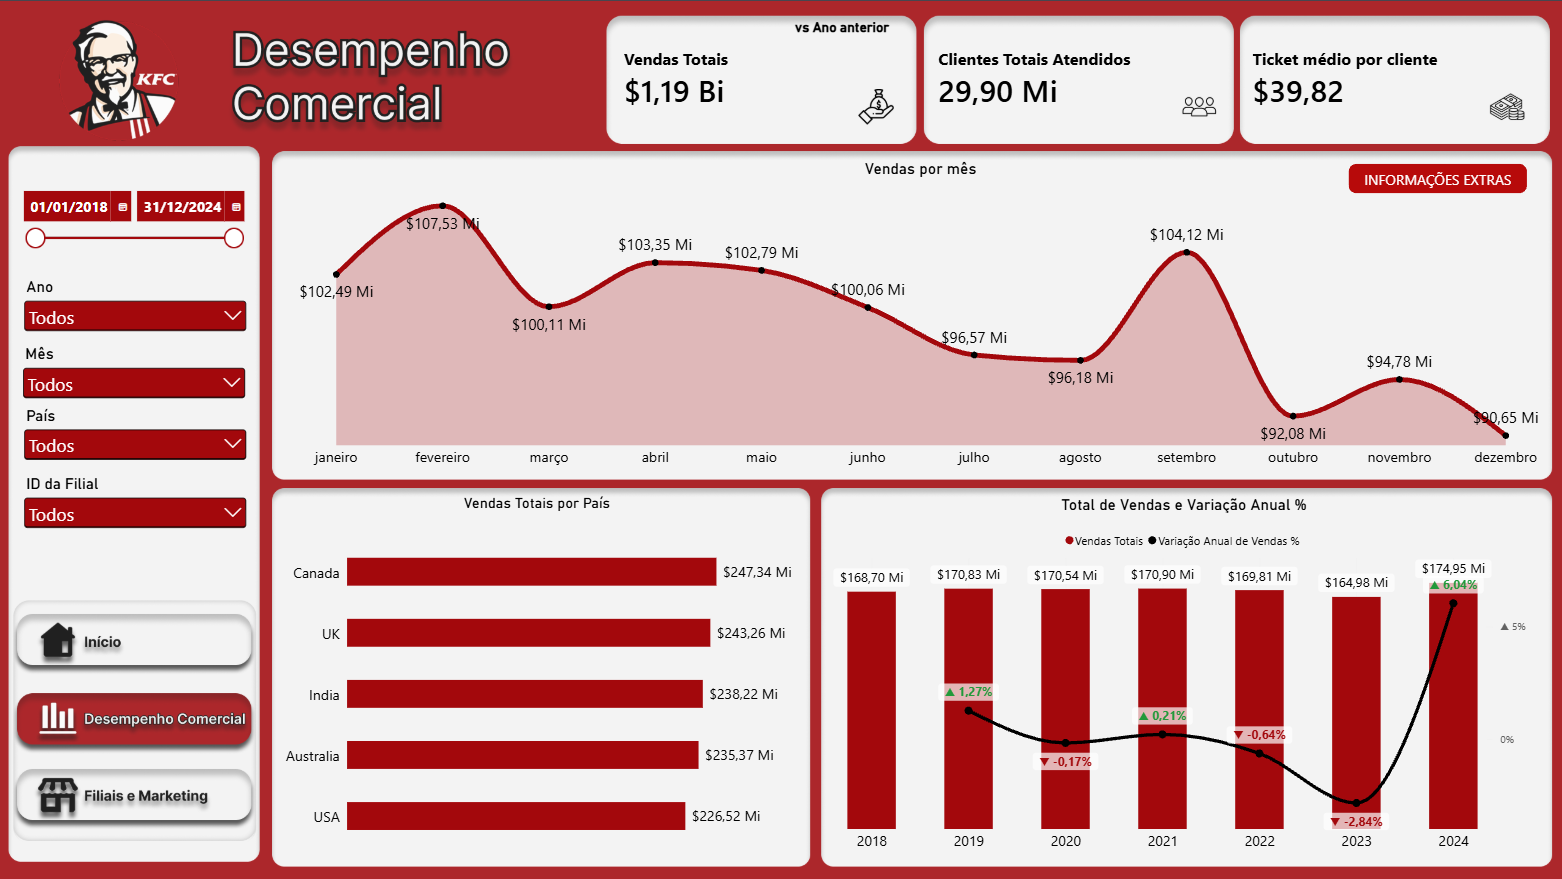

The dashboard page shown, as its layout file describes it:
{"tool":"powerbi","page":{"name":"Desempenho Comercial","canvas":[1920,1080],"ordinal":1},"visuals":[{"type":"lineChart","title":"Vendas  por mês","fields":{"Category":["dCalendario.Mês"],"Y":["Medidas.Vendas Totais"]},"box":[345,180.9,1573.3,412.8],"z":0},{"type":"cardVisual","fields":{"Data":["Medidas.Vendas Totais","Medidas.Clientes Totais","Medidas.Receita por Cliente"]},"box":[750.7,20.6,1150.2,152.8],"z":1000},{"type":"barChart","title":"Vendas Totais por País","fields":{"Category":["Conjunto de dados de vendas globais do KFC (2018–2024).País","Conjunto de dados de vendas globais do KFC (2018–2024).ID da Filial"],"Y":["Medidas.Vendas Totais"]},"box":[327.6,593.5,665.5,474.5],"z":2000},{"type":"lineStackedColumnComboChart","title":"Total de Vendas e Variação Anual % ","fields":{"Category":["dCalendario.Ano"],"Y":["Medidas.Vendas Totais"],"Y2":["Medidas.Variação Anual de Vendas %"]},"box":[1006.3,593.5,896.1,473],"z":3000},{"type":"cardVisual","title":"vs Ano anterior","fields":{"Data":["Medidas.Vendas Ano Atual vs Ano Anterior"]},"box":[950.5,23.5,168.9,88.1],"z":4000},{"type":"image","box":[1022.4,108.7,108.7,44.1],"z":5000},{"type":"image","box":[1814.2,108.7,76.4,44.1],"z":6000},{"type":"image","box":[1435.2,108.7,76.4,44.1],"z":7000},{"type":"actionButton","box":[23.3,758,280.9,56.5],"z":8000},{"type":"actionButton","box":[19.9,949.2,284.3,58.2],"z":9000},{"type":"slicer","fields":{"Values":["Conjunto de dados de vendas globais do KFC (2018–2024).ID da Filial"]},"box":[24,581.1,283.5,85.2],"z":10000},{"type":"slicer","fields":{"Values":["Conjunto de dados de vendas globais do KFC (2018–2024).País"]},"box":[24,497.7,283.5,83.7],"z":11000},{"type":"slicer","fields":{"Values":["dCalendario.Ano"]},"box":[24,339.3,283.5,82.3],"z":12000},{"type":"slicer","fields":{"Values":["dCalendario.Data"]},"box":[20.6,227.7,283.5,104.3],"z":13000},{"type":"slicer","fields":{"Values":["dCalendario.Mês Abreviado"]},"box":[22.6,421.3,283.5,82.3],"z":14000},{"type":"actionButton","title":"Botão - INFO","box":[1656.5,200.4,219.3,36.3],"z":17000}]}

Visuals, with their boxes in screenshot pixels (x1, y1, x2, y2), scaled from the page's 1920x1080 canvas onto the 1562x879 screenshot:
"Vendas  por mês" lineChart: [left=281, top=147, right=1561, bottom=483]
cardVisual - Medidas.Vendas Totais x Medidas.Clientes Totais: [left=611, top=17, right=1546, bottom=141]
"Vendas Totais por País" barChart: [left=267, top=483, right=808, bottom=869]
"Total de Vendas e Variação Anual % " lineStackedColumnComboChart: [left=819, top=483, right=1548, bottom=868]
"vs Ano anterior" cardVisual: [left=773, top=19, right=911, bottom=91]
image: [left=832, top=88, right=920, bottom=124]
image: [left=1476, top=88, right=1538, bottom=124]
image: [left=1168, top=88, right=1230, bottom=124]
actionButton: [left=19, top=617, right=247, bottom=663]
actionButton: [left=16, top=773, right=247, bottom=820]
slicer - Conjunto de dados de vendas globais do KFC (2018–2024).ID da Filial: [left=20, top=473, right=250, bottom=542]
slicer - Conjunto de dados de vendas globais do KFC (2018–2024).País: [left=20, top=405, right=250, bottom=473]
slicer - dCalendario.Ano: [left=20, top=276, right=250, bottom=343]
slicer - dCalendario.Data: [left=17, top=185, right=247, bottom=270]
slicer - dCalendario.Mês Abreviado: [left=18, top=343, right=249, bottom=410]
"Botão - INFO" actionButton: [left=1348, top=163, right=1526, bottom=193]
